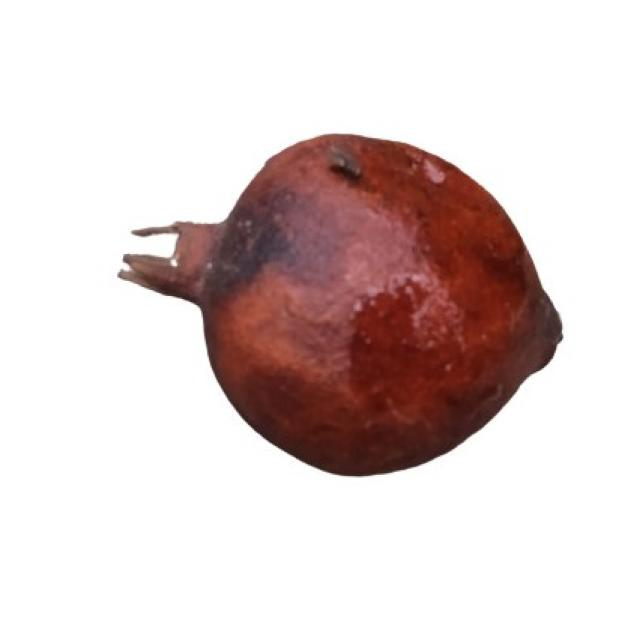Rotten: (118, 126, 567, 479)
